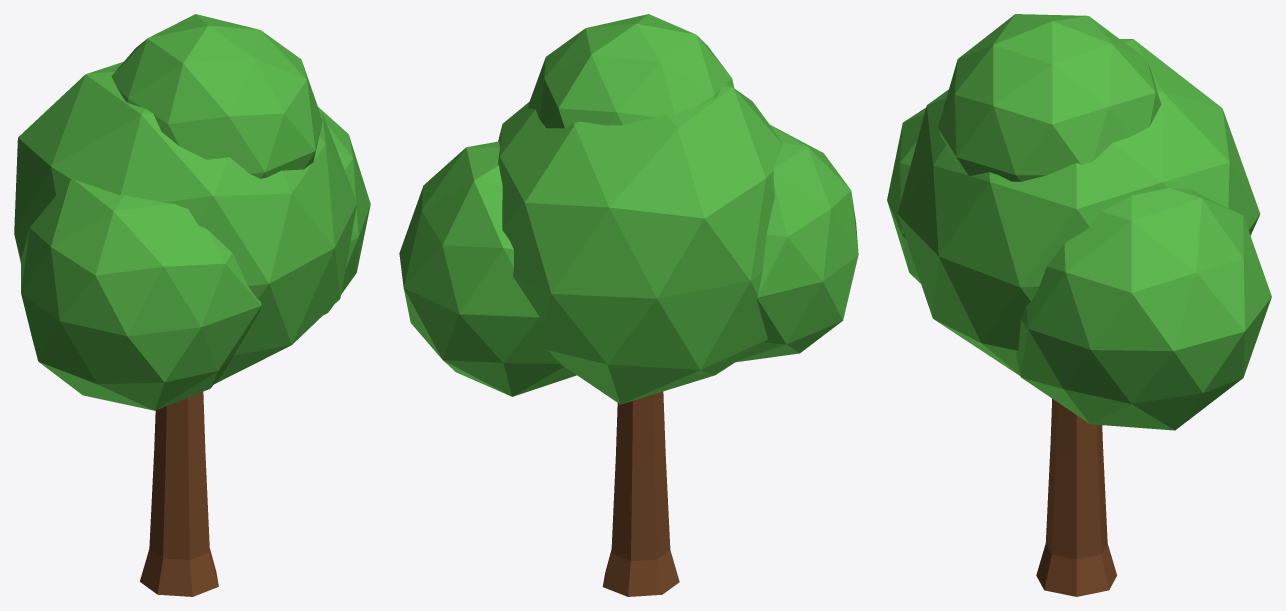
File: tree_b.glb
The picture shows the model from 3 angles, left to right: view 1: azimuth 30°, elevation 25°; view 2: azimuth 150°, elevation 25°; view 3: azimuth 270°, elevation 25°; orthographic projection. The views are drawn at different scales.
Parts seen in each view (by area): view 1: Leaves, Trunk; view 2: Leaves, Trunk; view 3: Leaves, Trunk.
Part boxes in pixels (x1,y1,x2,y2): Leaves: [14, 14, 370, 410]; Trunk: [140, 392, 218, 596]; Leaves: [399, 14, 858, 404]; Trunk: [602, 391, 679, 596]; Leaves: [887, 14, 1271, 430]; Trunk: [1036, 398, 1116, 596].
Bounding box in the file's own units: 3.58 × 5.11 × 3.15.
